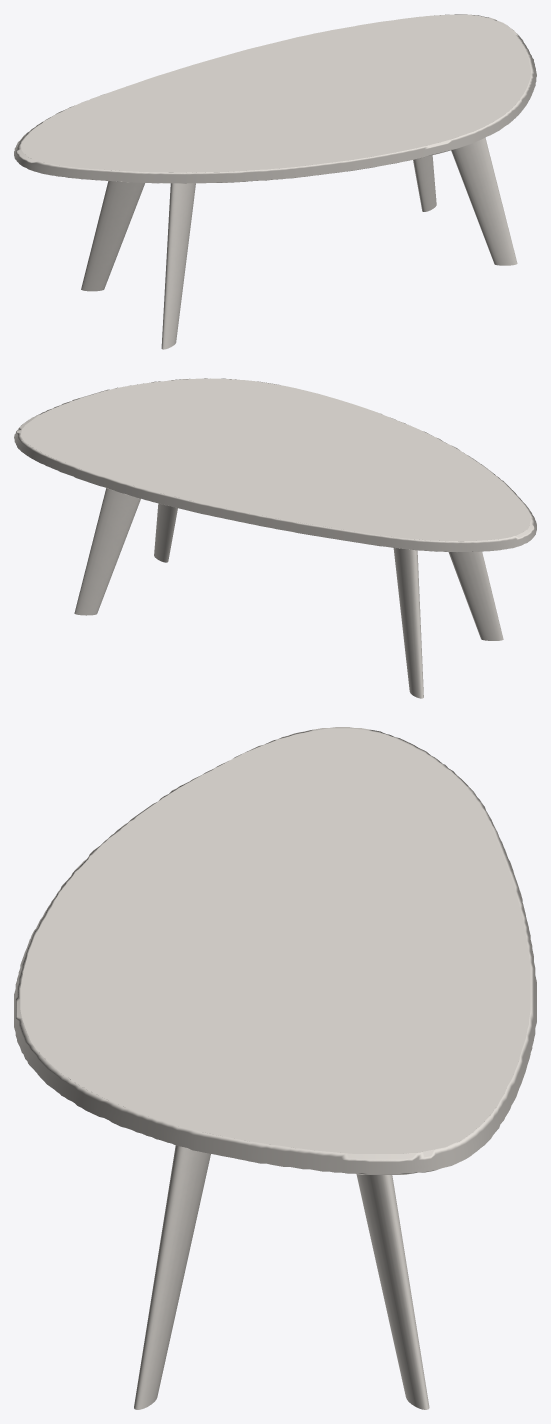
Rendered from pearlwhite_pebbletop_round_ferdinantwalnut.glb.
3 renders of one model, top to bottom at view 1: azimuth 30°, elevation 25°; view 2: azimuth 150°, elevation 25°; view 3: azimuth 270°, elevation 25°, orthographic. The views are drawn at different scales.
Visible parts, largest first — view 1: round_pebbletop, ferdinandwalnut; view 2: round_pebbletop, ferdinandwalnut; view 3: round_pebbletop, ferdinandwalnut.
Boxes of the visible parts, x1,y1,x2,y2 form: round_pebbletop: (14,14,536,183); ferdinandwalnut: (81,137,517,349); round_pebbletop: (14,378,536,551); ferdinandwalnut: (74,488,503,698); round_pebbletop: (14,727,536,1174); ferdinandwalnut: (134,1145,429,1409).
Size of the model in its own units: 7.69 by 2.51 by 3.89.
Materials: 1 (1 with a texture image).
